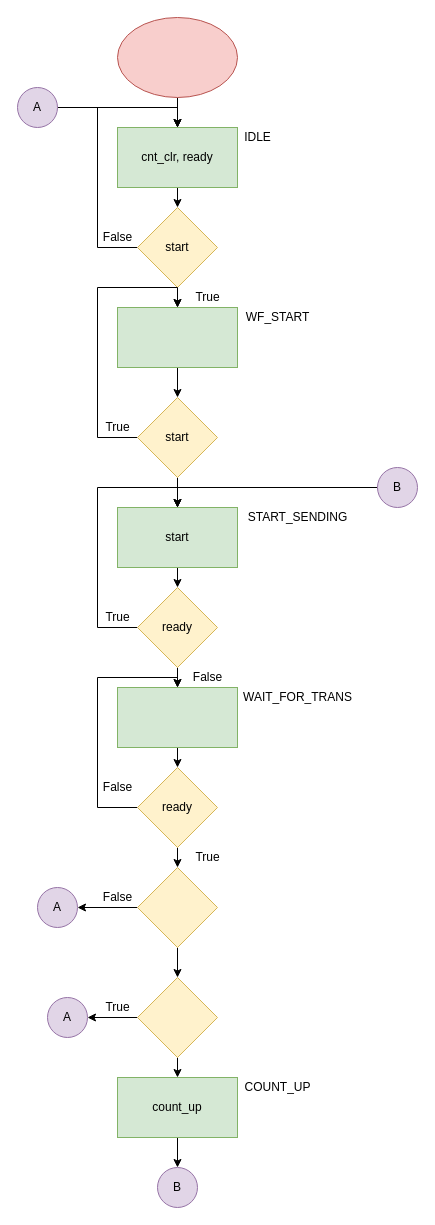
Image size: 435x1225. Some labels were removed from this diagram. Here are the shapes that lost their labels. From the top down, the box of each, then its label:
(116, 16, 238, 98): nrst
(116, 306, 238, 368): cnt_clr
(136, 866, 218, 948): success
(136, 976, 218, 1058): top
